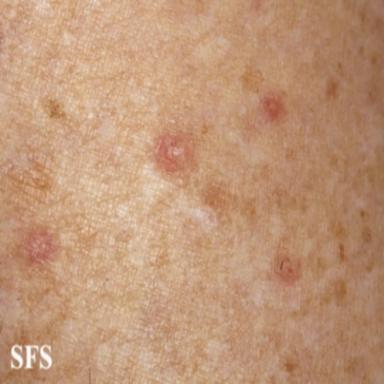Porokeratosis: (151, 131, 198, 180), (25, 228, 57, 264), (259, 92, 287, 123), (275, 254, 301, 285)
